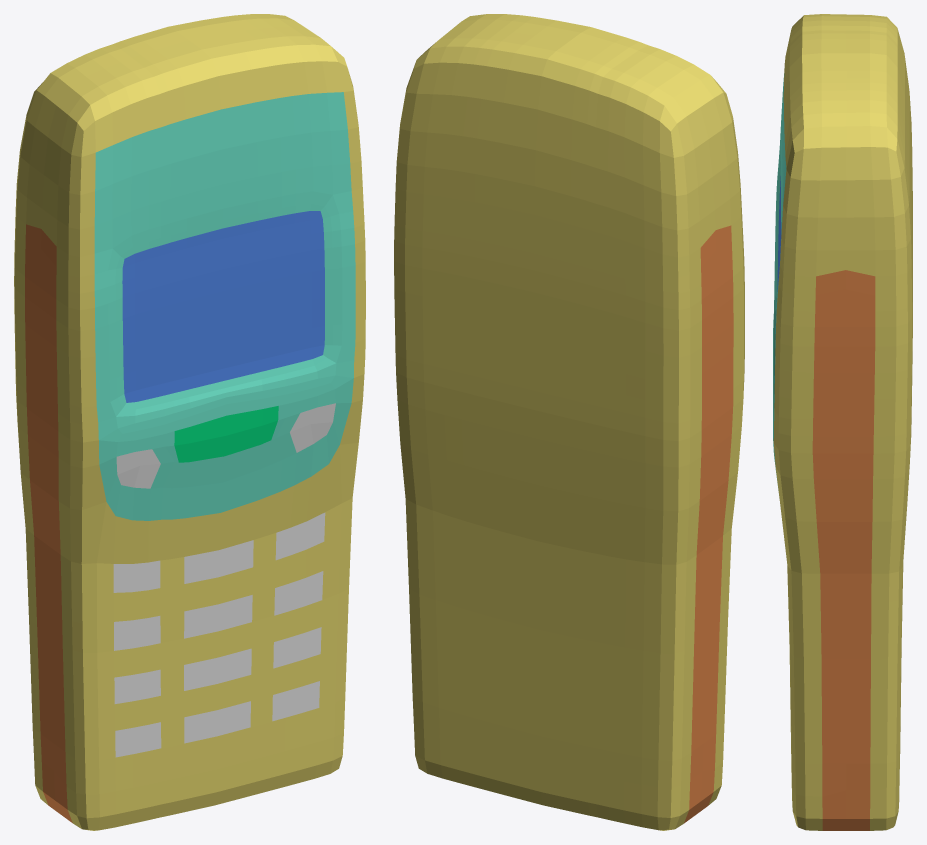
Rendered from NokiaFBX.fbx.
3 renders of one model, left to right at view 1: azimuth 30°, elevation 25°; view 2: azimuth 150°, elevation 25°; view 3: azimuth 270°, elevation 25°, orthographic. The views are drawn at different scales.
Visible parts, largest first — view 1: Cube; view 2: Cube; view 3: Cube.
Part boxes in pixels (x1,y1,x2,y2): Cube: [14, 14, 365, 830]; Cube: [394, 14, 744, 830]; Cube: [773, 14, 912, 830].
Size of the model in its own units: 2.46 by 5.94 by 1.04.
